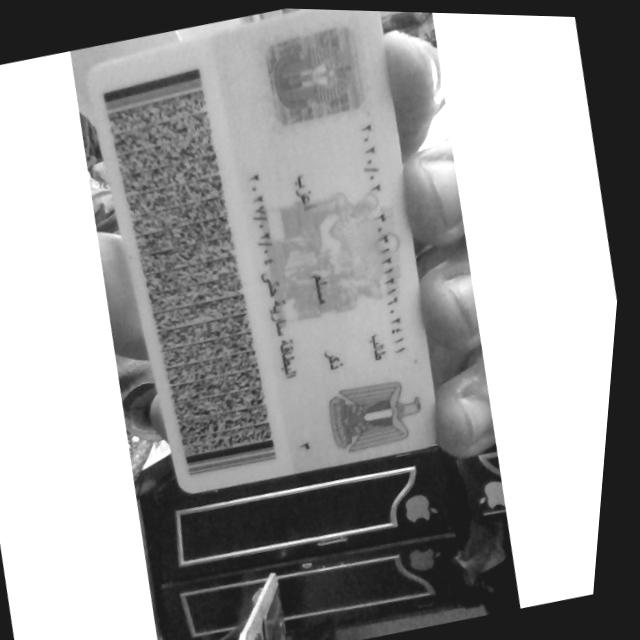back: (88, 9, 435, 492)
